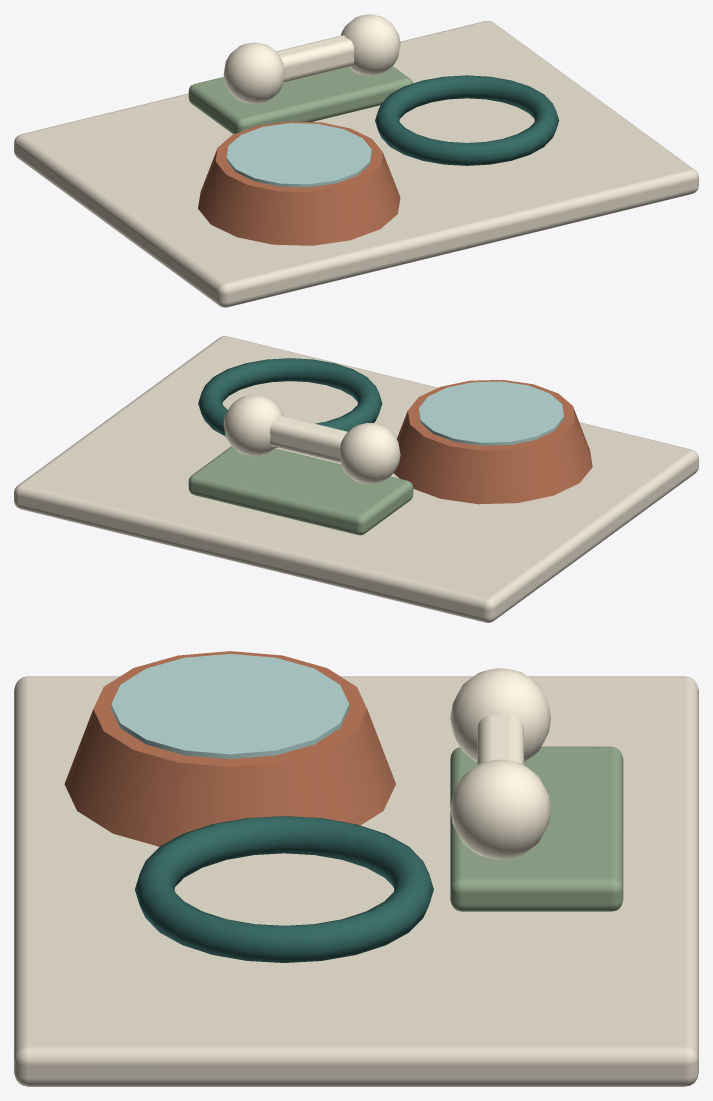
Rendered from work-pet-care.glb.
The picture shows the model from 3 angles, top to bottom: view 1: azimuth 30°, elevation 25°; view 2: azimuth 150°, elevation 25°; view 3: azimuth 270°, elevation 25°; orthographic projection. The views are drawn at different scales.
Visible parts, largest first — view 1: display-plinth, pet-bowl, coiled-leash, folded-pet-blanket, water, bone-end (×2), dog-bone; view 2: display-plinth, pet-bowl, folded-pet-blanket, water, coiled-leash, bone-end (×2), dog-bone; view 3: display-plinth, pet-bowl, coiled-leash, folded-pet-blanket, water, bone-end (×2), dog-bone.
Part boxes in pixels (x1,y1,x2,y2): display-plinth: (14, 20, 698, 307); pet-bowl: (198, 121, 400, 245); coiled-leash: (375, 75, 559, 165); folded-pet-blanket: (188, 66, 412, 134); water: (226, 123, 371, 187); bone-end (×2): (223, 14, 400, 103); dog-bone: (276, 35, 354, 82); display-plinth: (14, 336, 698, 622); pet-bowl: (393, 379, 592, 504); folded-pet-blanket: (188, 446, 413, 535); water: (419, 381, 563, 445); coiled-leash: (198, 358, 382, 447); bone-end (×2): (223, 394, 400, 484); dog-bone: (270, 415, 347, 462); display-plinth: (14, 676, 698, 1086); pet-bowl: (64, 651, 395, 846); coiled-leash: (135, 816, 433, 962); folded-pet-blanket: (450, 746, 623, 911); water: (111, 654, 349, 759); bone-end (×2): (450, 668, 550, 859); dog-bone: (477, 715, 523, 764).
Bounding box in the file's own units: 2.5 × 0.56 × 1.9.
